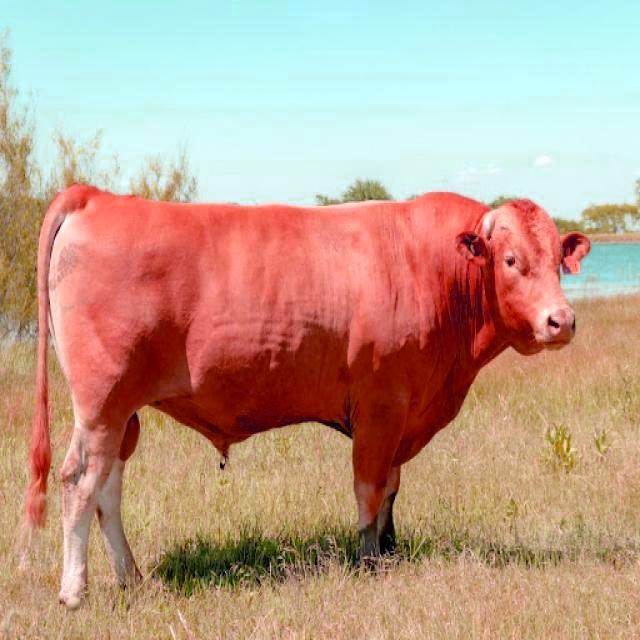COW: (26, 185, 589, 605)
